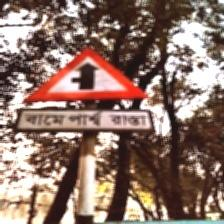Side-road-left: (17, 47, 152, 135)
